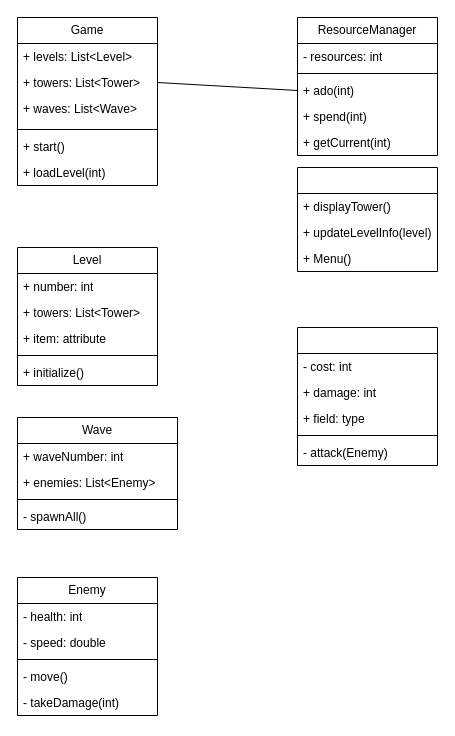
Some shapes in this 455 by 736 pixel diagram are drawn without their labels. The box of each missing label's shape, as (x1, y1, x2, y2) in pixels:
Tower: (296, 326, 438, 466)
UIManager: (296, 166, 438, 272)
